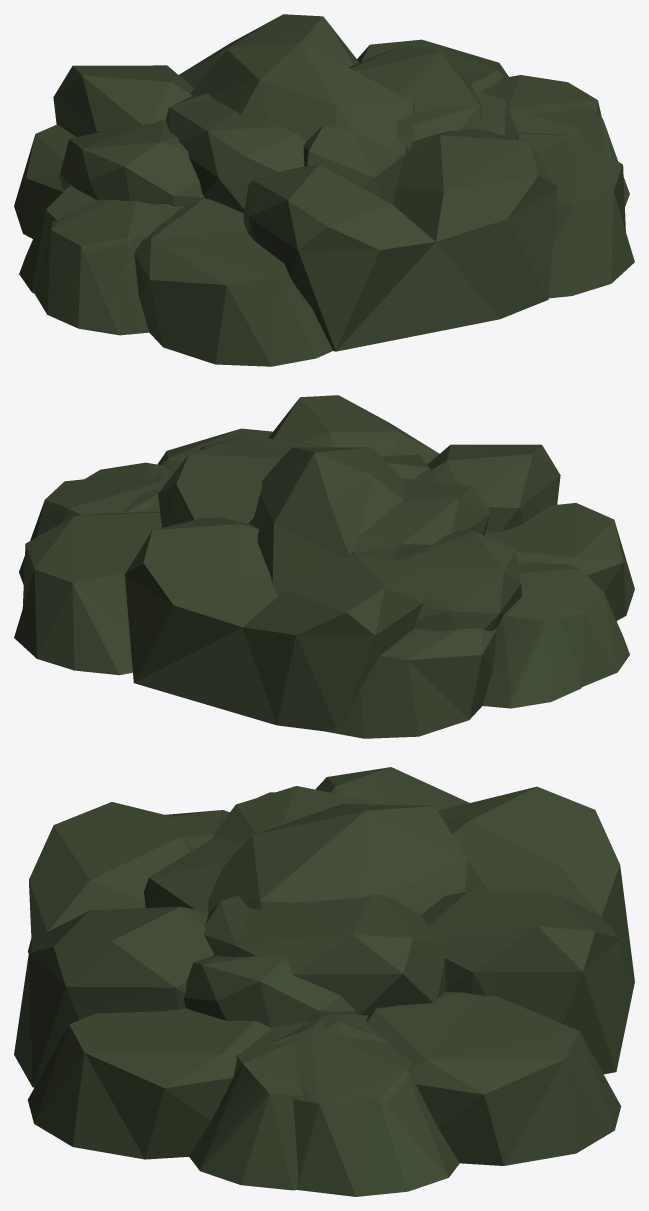
File: EA_Swamp_Stones_02a.glb
3 renders of one model, top to bottom at view 1: azimuth 30°, elevation 25°; view 2: azimuth 150°, elevation 25°; view 3: azimuth 270°, elevation 25°, orthographic. The views are drawn at different scales.
Parts seen in each view (by area): view 1: EA_Swamp_Stones_02a; view 2: EA_Swamp_Stones_02a; view 3: EA_Swamp_Stones_02a.
Part boxes in pixels (x1,y1,x2,y2): EA_Swamp_Stones_02a: (14,14,634,366); EA_Swamp_Stones_02a: (14,395,634,738); EA_Swamp_Stones_02a: (14,767,634,1196).
Size of the model in its own units: 2.99 by 0.8909 by 2.34.
Materials: 1 (1 with a texture image).
